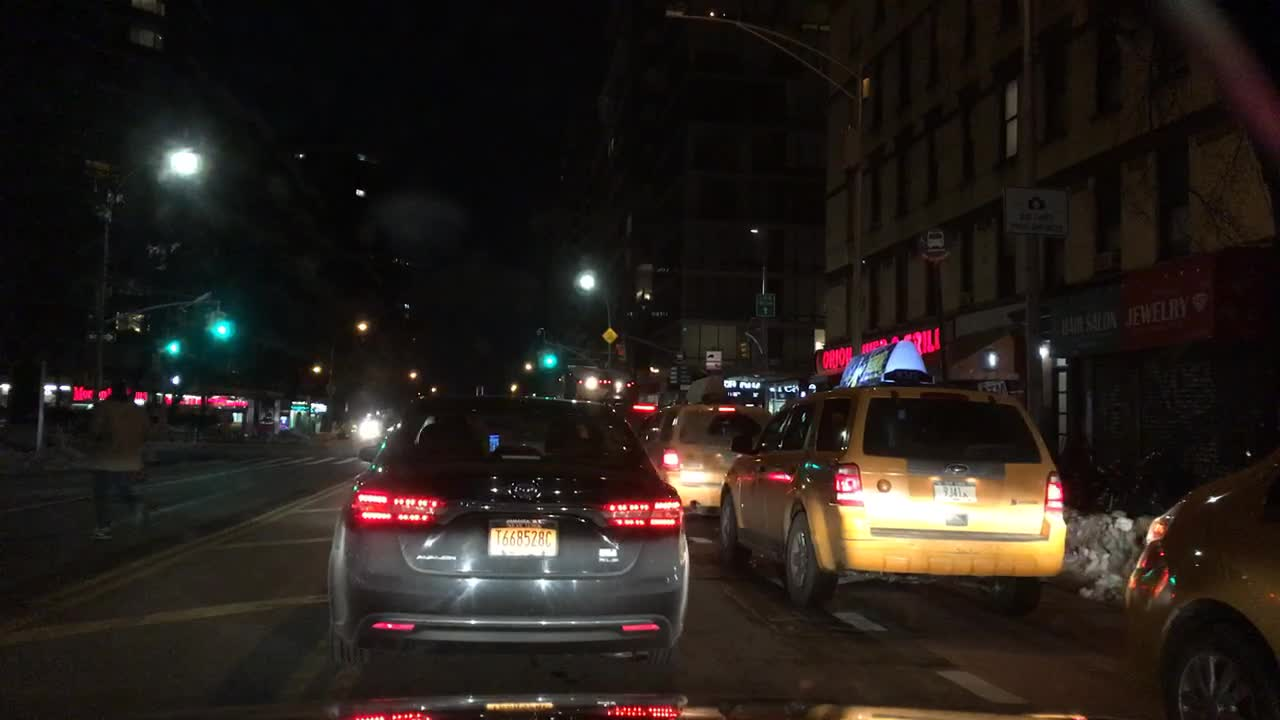car: (328, 397, 688, 665), (720, 343, 1065, 610), (1130, 467, 1279, 718), (638, 405, 771, 516)
person: (93, 379, 145, 536)
traffic light: (212, 322, 226, 333), (168, 342, 177, 354), (680, 365, 686, 381), (670, 368, 677, 381), (741, 344, 747, 359)
traffic sign: (1004, 186, 1066, 232), (755, 295, 773, 316), (704, 351, 719, 369), (602, 328, 616, 342)
